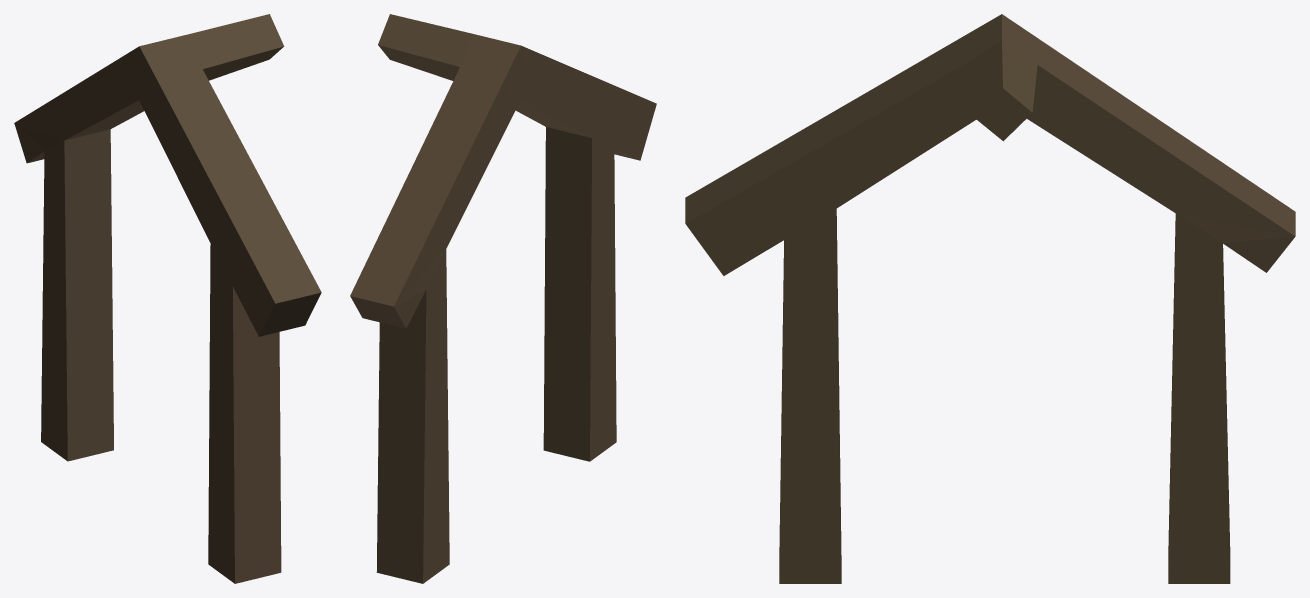
Rendered from MineEntrance05.fbx.
The picture shows the model from 3 angles, left to right: view 1: azimuth 30°, elevation 25°; view 2: azimuth 150°, elevation 25°; view 3: azimuth 270°, elevation 25°; orthographic projection. The views are drawn at different scales.
Visible parts, largest first — view 1: MineEntrance05; view 2: MineEntrance05; view 3: MineEntrance05.
Part boxes in pixels (x1,y1,x2,y2): MineEntrance05: (14,14,321,583); MineEntrance05: (350,14,656,583); MineEntrance05: (685,14,1295,583).
Size of the model in its own units: 346 by 340 by 99.57.
